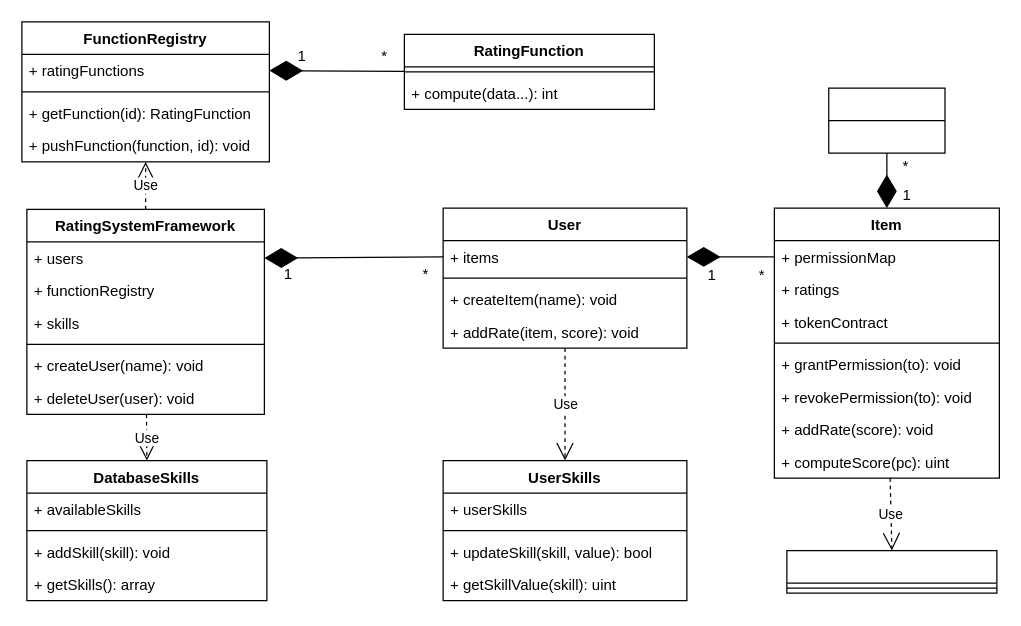
Image size: 1021x626. Some labels were removed from this diagram. Each missing label, with the centre of its shape:
ERC20: point 891,571
Rating: point 886,120
